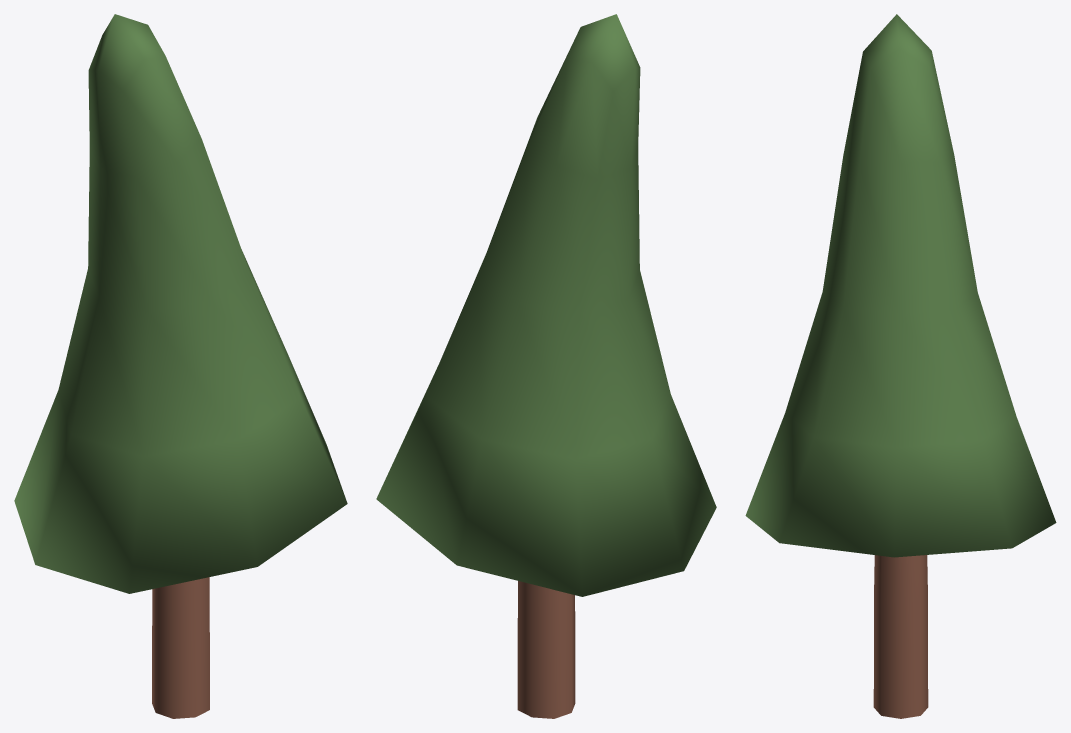
File: TreeLarge2.fbx
The picture shows the model from 3 angles, left to right: view 1: azimuth 30°, elevation 25°; view 2: azimuth 150°, elevation 25°; view 3: azimuth 270°, elevation 25°; orthographic projection. The views are drawn at different scales.
Visible parts, largest first — view 1: TreeLarge2; view 2: TreeLarge2; view 3: TreeLarge2.
Part boxes in pixels (box(x1,y1,x2,y2)): TreeLarge2: box(14, 14, 347, 718); TreeLarge2: box(376, 14, 716, 718); TreeLarge2: box(745, 14, 1056, 718).
Size of the model in its own units: 224 by 220 by 527.
